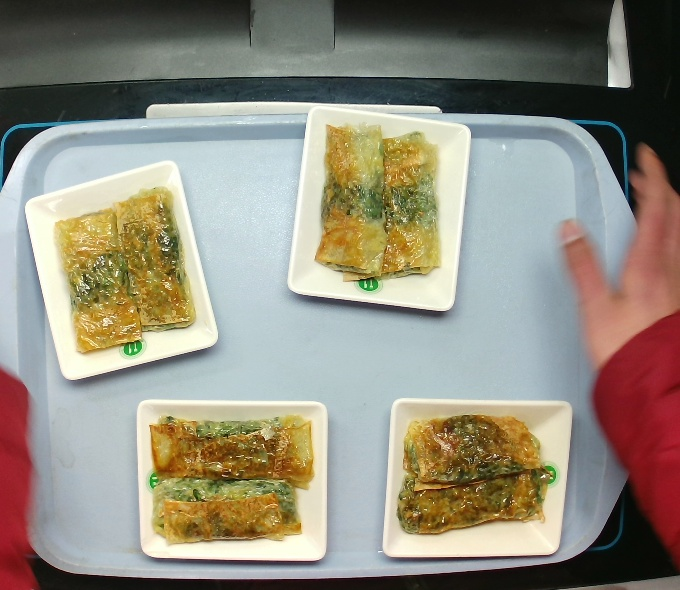wcq-CaiBao: (47, 172, 203, 367), (301, 119, 467, 298), (127, 399, 324, 549), (382, 405, 559, 545)
